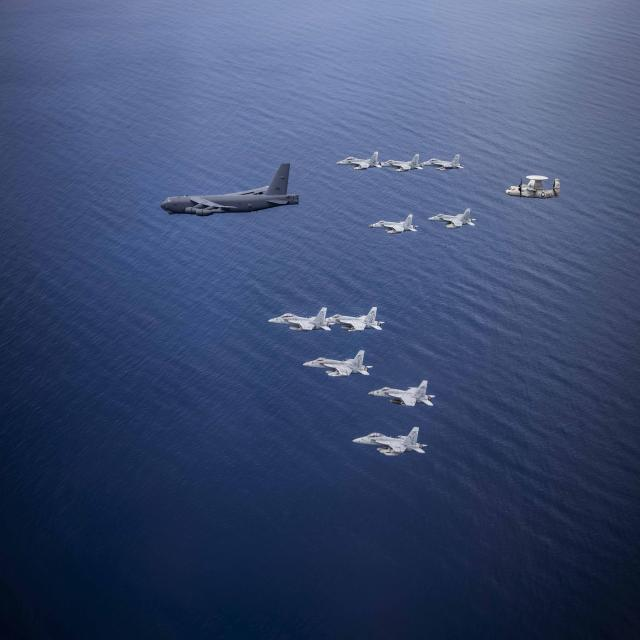MIL_Plane: (160, 163, 299, 216), (352, 426, 428, 456), (302, 350, 373, 377), (368, 380, 435, 407), (268, 307, 335, 332), (325, 307, 385, 332), (505, 126, 560, 146), (369, 214, 420, 234), (428, 208, 476, 228), (336, 151, 385, 170), (381, 154, 425, 172), (419, 154, 465, 171)
